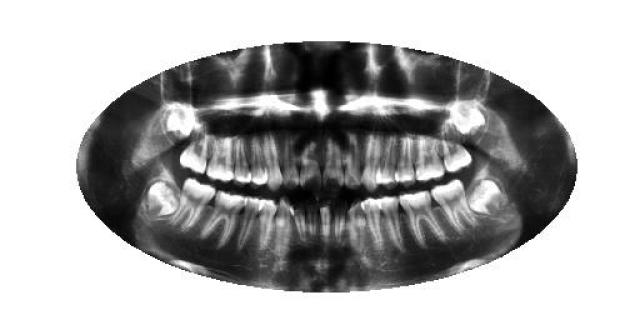Restorations: (466, 176, 509, 218), (142, 178, 182, 222), (162, 104, 198, 145)
